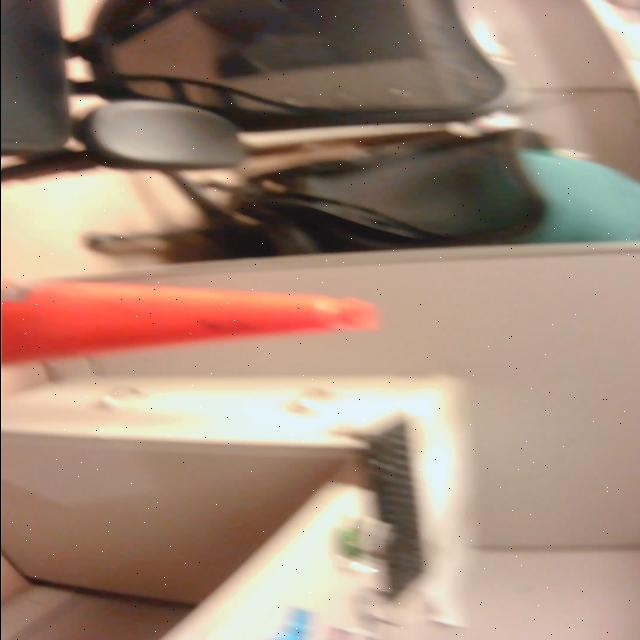traffic cone: (1, 269, 387, 385)
